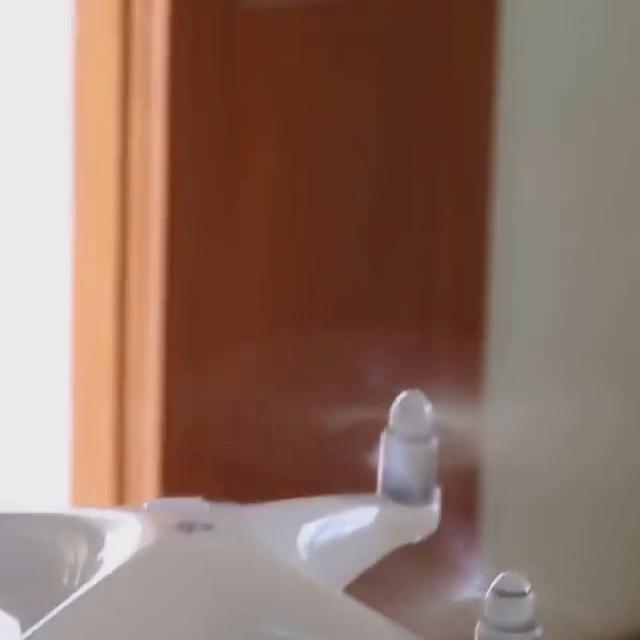drone: (0, 365, 590, 640)
